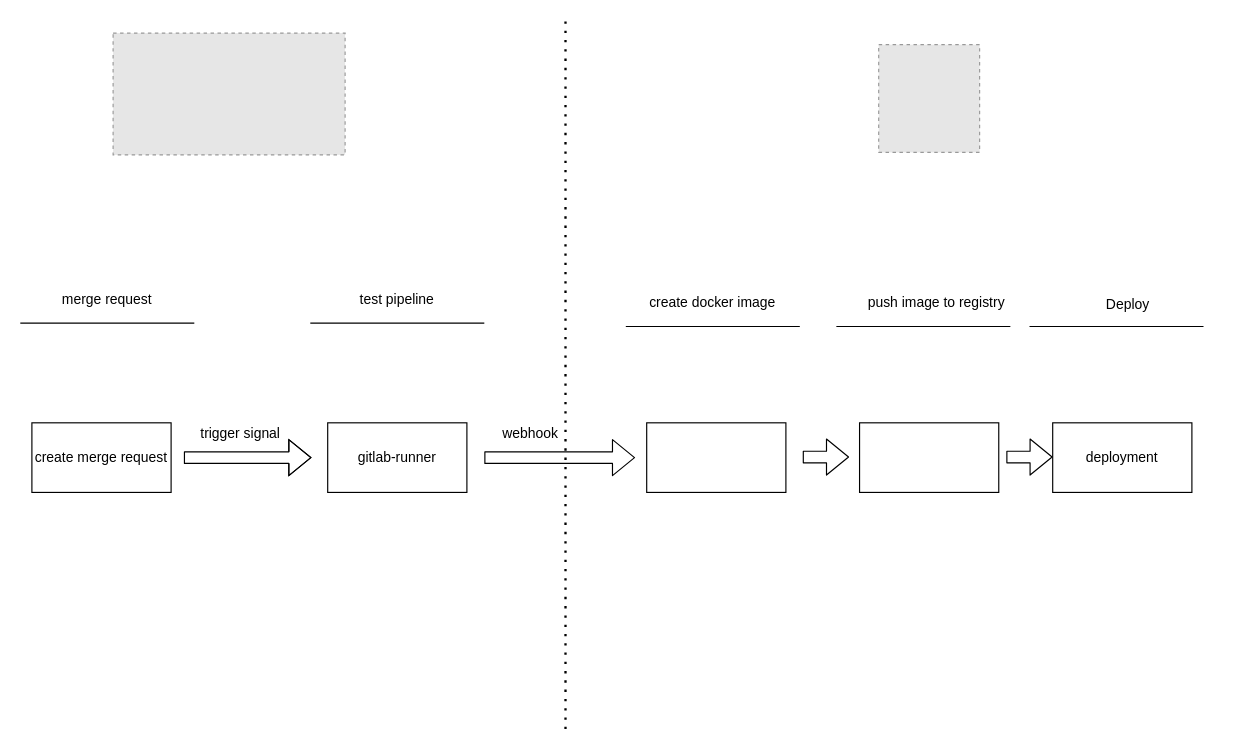
The diagram is 1235 pixels wide and 751 high, and some of its shapes have lost their labels. Grey dashed boxes stand in for pictures. The centre of each missing label's shape, as x and y in pixels:
image stream: pixel 928 457
openshift-builder: pixel 716 457
